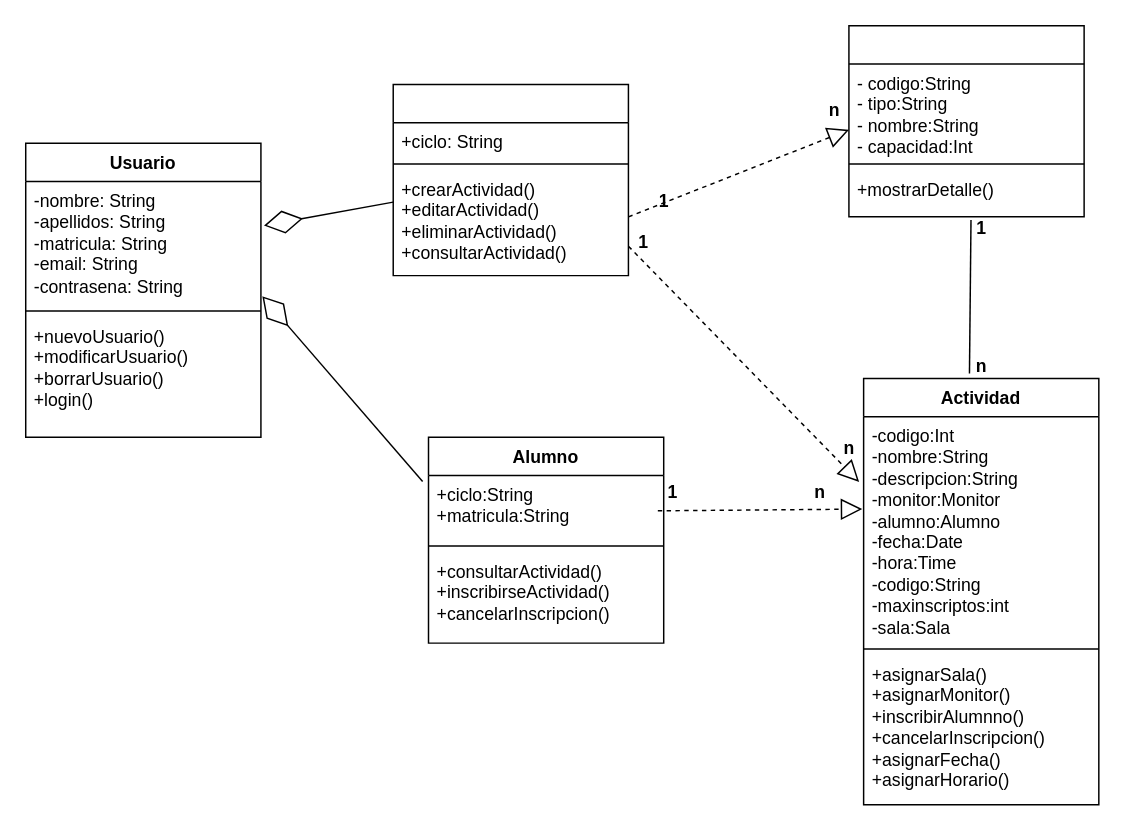
The diagram is 1125 pixels wide and 835 high, and some of its shapes have lost their labels. The shapes that lost their labels are listed below. From the top down, each one's box as (x1, y1, x2, y2) in pixels, then its label:
(847, 24, 1084, 217): Sala
(392, 83, 628, 276): Monitor
